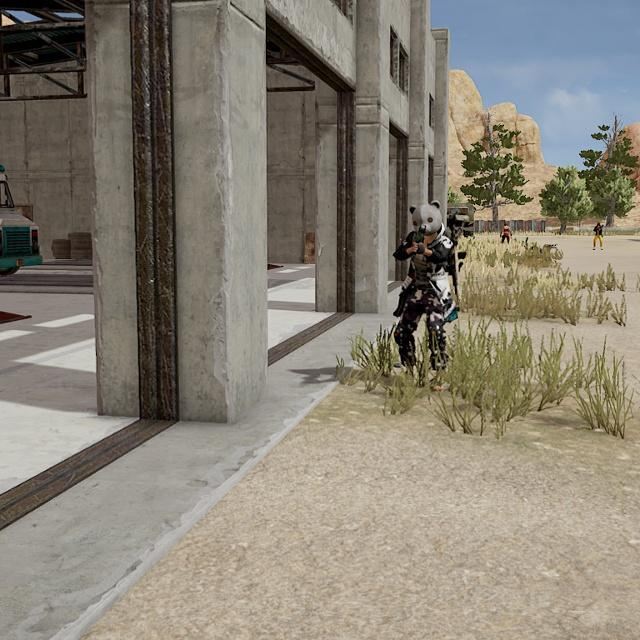head: (409, 202, 445, 240), (596, 222, 602, 228), (504, 222, 509, 227)
people: (392, 201, 457, 393), (498, 221, 514, 245), (592, 222, 604, 250)
